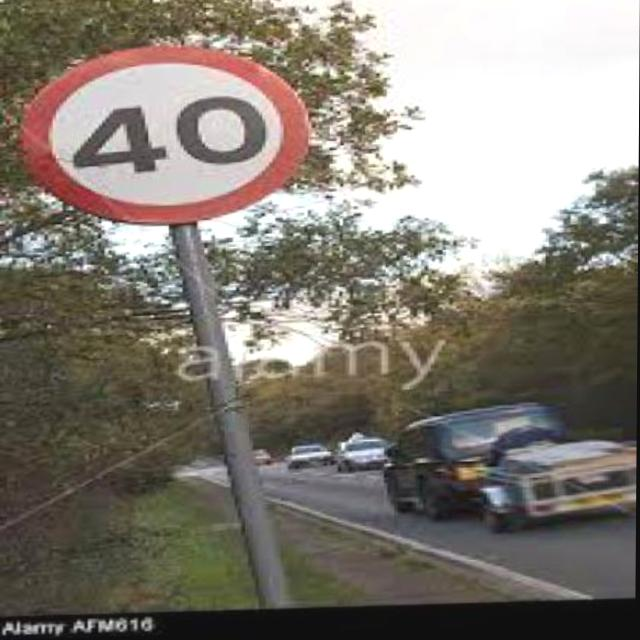limit40: (13, 37, 316, 233)
